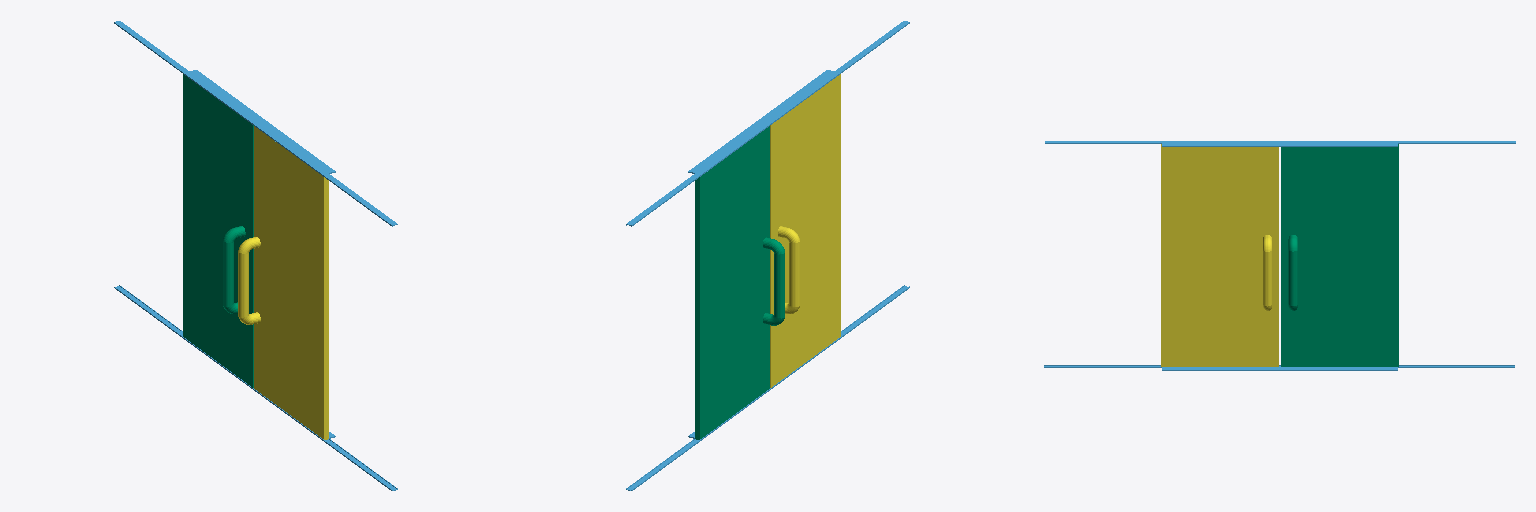
robot.urdf — partnet_5b844d6f4d064a52ce6c3e73b818a2cc:
<?xml version="1.0" ?>
<robot name="partnet_5b844d6f4d064a52ce6c3e73b818a2cc">
	<link name="base"/>
	<link name="link_0">
		<visual name="outside_frame-1">
			<origin xyz="0 0 0"/>
			<geometry>
				<mesh filename="textured_objs/original-1.obj"/>
			</geometry>
		</visual>
		<visual name="outside_frame-1">
			<origin xyz="0 0 0"/>
			<geometry>
				<mesh filename="textured_objs/original-2.obj"/>
			</geometry>
		</visual>
		<collision>
			<origin xyz="0 0 0"/>
			<geometry>
				<mesh filename="textured_objs/original-1.obj"/>
			</geometry>
		</collision>
		<collision>
			<origin xyz="0 0 0"/>
			<geometry>
				<mesh filename="textured_objs/original-2.obj"/>
			</geometry>
		</collision>
	</link>
	<joint name="joint_0" type="fixed">
		<origin rpy="1.570796326794897 0 -1.570796326794897" xyz="0 0 0"/>
		<child link="link_0"/>
		<parent link="base"/>
	</joint>
	<link name="link_1">
		<visual name="glass-34">
			<origin xyz="0.4215270657166128 -0.48329200000000005 -0.008461858680020029"/>
			<geometry>
				<mesh filename="textured_objs/original-12.obj"/>
			</geometry>
		</visual>
		<visual name="fixed_part-31">
			<origin xyz="0.4215270657166128 -0.48329200000000005 -0.008461858680020029"/>
			<geometry>
				<mesh filename="textured_objs/original-10.obj" scale="2 2 2"/>
			</geometry>
		</visual>
		<visual name="fixed_part-30">
			<origin xyz="0.4215270657166128 -0.48329200000000005 -0.008461858680020029"/>
			<geometry>
				<mesh filename="textured_objs/original-11.obj" scale="2 2 2"/>
			</geometry>
		</visual>
		<collision>
			<origin xyz="0.4215270657166128 -0.48329200000000005 -0.008461858680020029"/>
			<geometry>
				<mesh filename="textured_objs/original-12.obj"/>
			</geometry>
		</collision>
		<collision>
			<origin xyz="0.4215270657166128 -0.48329200000000005 -0.008461858680020029"/>
			<geometry>
				<mesh filename="textured_objs/original-10.obj" scale="2 2 2"/>
			</geometry>
		</collision>
		<collision>
			<origin xyz="0.4215270657166128 -0.48329200000000005 -0.008461858680020029"/>
			<geometry>
				<mesh filename="textured_objs/original-11.obj" scale="2 2 2"/>
			</geometry>
		</collision>
	</link>
	<joint name="joint_1" type="revolute">
		<origin xyz="-0.4265270657166128 0.48329200000000005 0.008461858680020029"/>
		<axis xyz="0 -1 0"/>
		<child link="link_1"/>
		<parent link="link_0"/>
		<limit lower="0.0" upper="1.5707963267948966"/>
	</joint>
	<link name="link_2">
		<visual name="glass-33">
			<origin xyz="-0.41540686074842226 -0.4832920000000003 -0.0055998888476049835"/>
			<geometry>
				<mesh filename="textured_objs/original-7.obj"/>
			</geometry>
		</visual>
		<visual name="fixed_part-32">
			<origin xyz="-0.41540686074842226 -0.4832920000000003 -0.0055998888476049835"/>
			<geometry>
				<mesh filename="textured_objs/original-6.obj" scale="2 2 2"/>
			</geometry>
		</visual>
		<visual name="fixed_part-29">
			<origin xyz="-0.41540686074842226 -0.4832920000000003 -0.0055998888476049835"/>
			<geometry>
				<mesh filename="textured_objs/original-5.obj" scale="2 2 2"/>
			</geometry>
		</visual>
		<collision>
			<origin xyz="-0.41540686074842226 -0.4832920000000003 -0.0055998888476049835"/>
			<geometry>
				<mesh filename="textured_objs/original-7.obj"/>
			</geometry>
		</collision>
		<collision>
			<origin xyz="-0.41540686074842226 -0.4832920000000003 -0.0055998888476049835"/>
			<geometry>
				<mesh filename="textured_objs/original-6.obj" scale="2 2 2"/>
			</geometry>
		</collision>
		<collision>
			<origin xyz="-0.41540686074842226 -0.4832920000000003 -0.0055998888476049835"/>
			<geometry>
				<mesh filename="textured_objs/original-5.obj" scale="2 2 2"/>
			</geometry>
		</collision>
	</link>
	<joint name="joint_2" type="revolute">
		<origin xyz="0.42040686074842226 0.4832920000000003 0.0055998888476049835"/>
		<axis xyz="0 1 0"/>
		<child link="link_2"/>
		<parent link="link_0"/>
		<limit lower="-0.0" upper="1.5707963267948966"/>
	</joint>
</robot>

--- Facts derived from the render (not from the file) ---
3 views of the same robot in one strip: view 1: azimuth 30°, elevation 25°; view 2: azimuth 150°, elevation 25°; view 3: azimuth 270°, elevation 25° (orthographic).
Robot: partnet_5b844d6f4d064a52ce6c3e73b818a2cc — 4 links, 3 joints (2 revolute, 1 fixed); root link base; default pose: all joints at 0.
Links seen in each view (by area): view 1: link_2, link_1, link_0; view 2: link_1, link_2, link_0; view 3: link_1, link_2, link_0.
Link boxes in pixels (x1,y1,x2,y2): link_2: (238, 126, 328, 439); link_1: (183, 74, 253, 387); link_0: (114, 21, 397, 490); link_1: (695, 126, 784, 439); link_2: (770, 74, 840, 387); link_0: (626, 21, 909, 490); link_1: (1281, 144, 1398, 366); link_2: (1161, 144, 1278, 366); link_0: (1044, 141, 1515, 370).
Bounding box of the posed robot: 0.1762 × 1.76 × 0.9294 m (x, y, z).
8 mesh visuals loaded from 8 distinct referenced files (8 OBJ).
